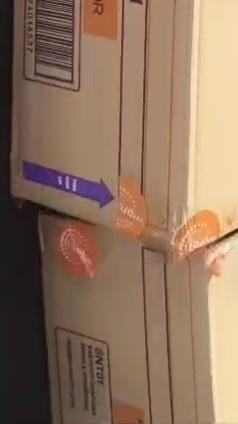box: (41, 217, 237, 423)
